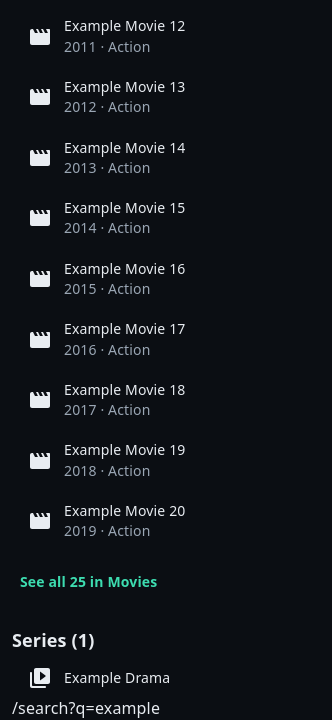
Test: opening a result (AC3) › Example Drama → /series/20
The width and height of the screenshot is (332, 720).
(page scrolled)
Click the link "Example Drama".
click(99, 678)  # box [28,666,170,690]
(page scrolled)
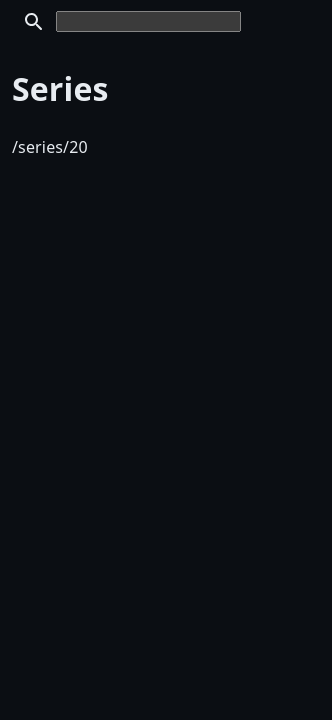
expect the text with test id "location" reads "/series/20": met, box [12,136,88,158]
